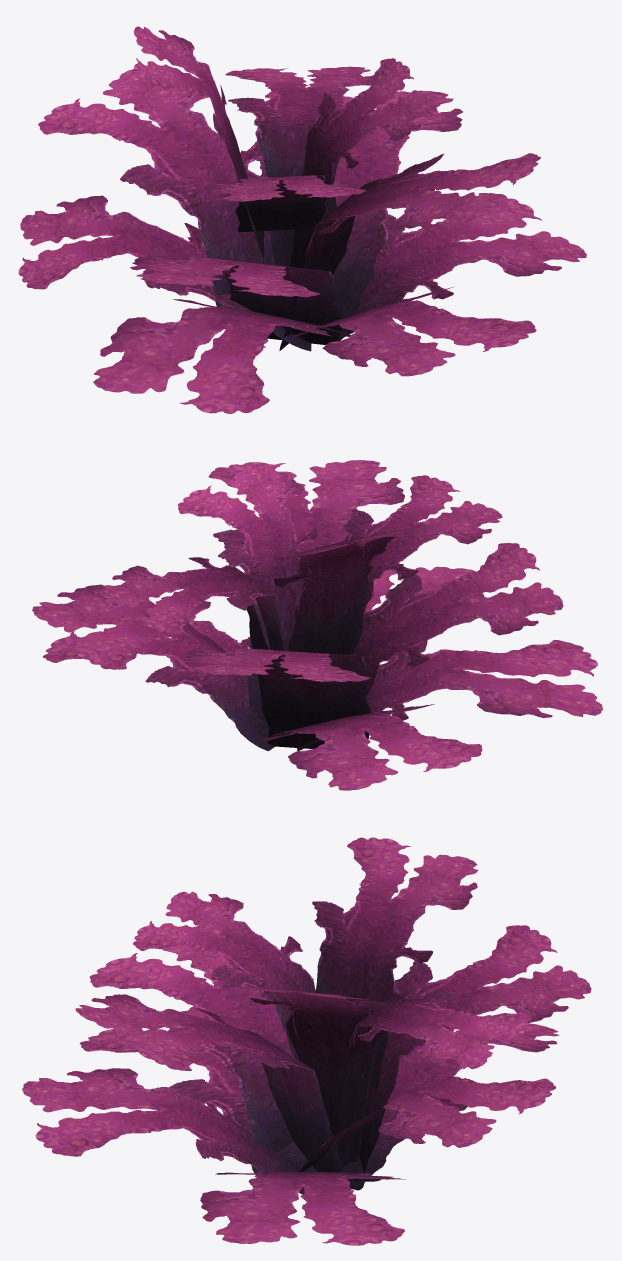
Rendered from environment_grass_seahaicao_001_a.FBX.
3 views of the same model, one above another, from view 1: azimuth 30°, elevation 25°; view 2: azimuth 150°, elevation 25°; view 3: azimuth 270°, elevation 25° (orthographic). The views are drawn at different scales.
Visible parts, largest first — view 1: environment_grass_seahaicao_001_a; view 2: environment_grass_seahaicao_001_a; view 3: environment_grass_seahaicao_001_a.
Part boxes in pixels (box(x1,y1,x2,y2)): environment_grass_seahaicao_001_a: box(18, 26, 586, 413); environment_grass_seahaicao_001_a: box(32, 460, 603, 790); environment_grass_seahaicao_001_a: box(22, 837, 591, 1245).
Bounding box in the file's own units: 130 × 63.8 × 126.
1 material, 1 textured.
